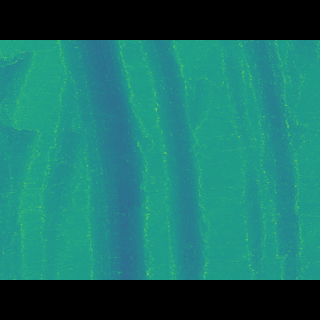Loch: (50, 68, 156, 251), (221, 70, 319, 250), (133, 69, 211, 250), (0, 77, 47, 250)
